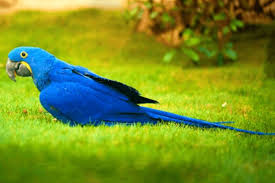guacamaya: (3, 46, 186, 125)
